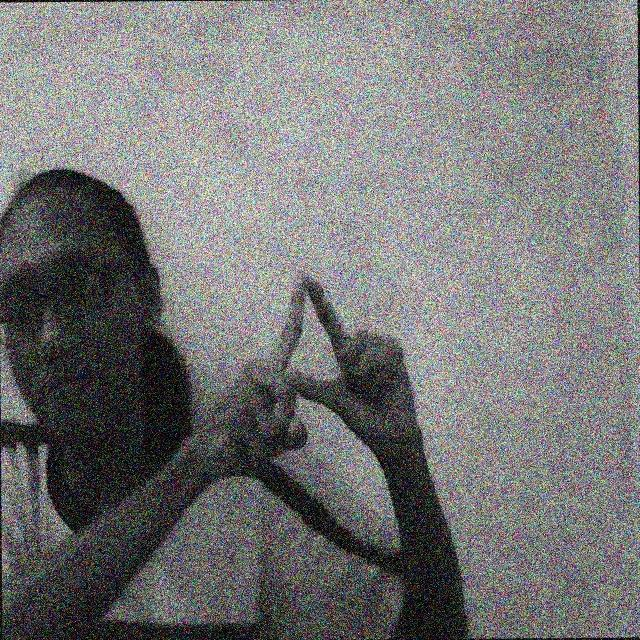A: (222, 254, 388, 429)
